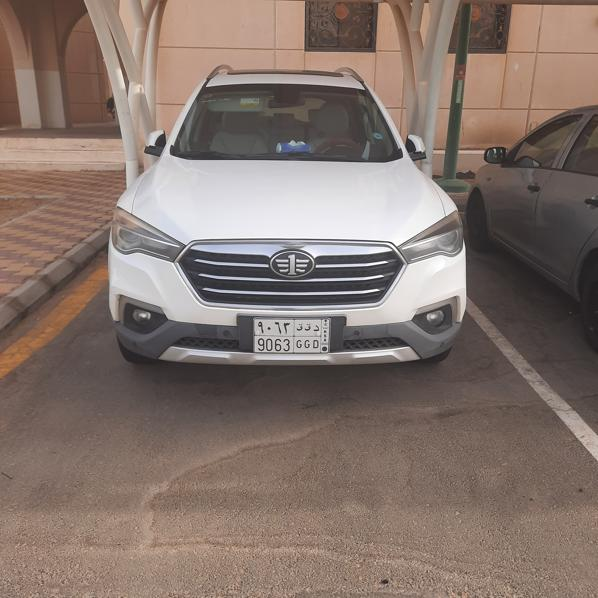numberplate: (252, 318, 330, 354)
